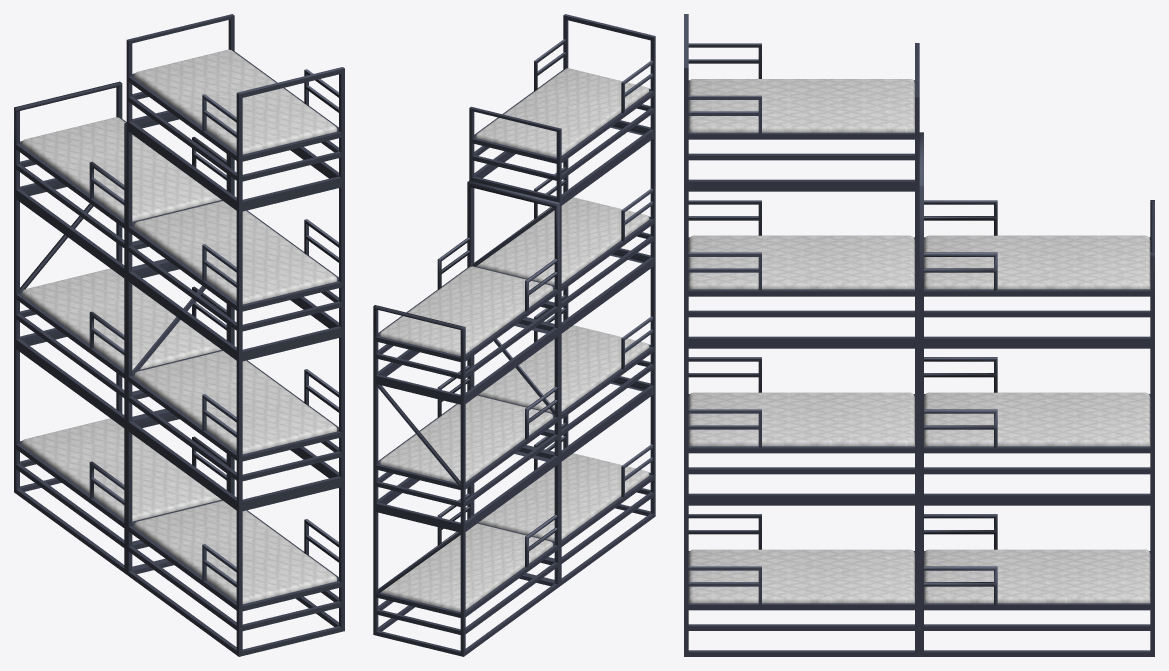
The model's file is squidgame_props_bed3.fbx.
3 views of the same model, side by side, from view 1: azimuth 30°, elevation 25°; view 2: azimuth 150°, elevation 25°; view 3: azimuth 270°, elevation 25° (orthographic). The views are drawn at different scales.
Visible parts, largest first — view 1: squidgame_props_bed3; view 2: squidgame_props_bed3; view 3: squidgame_props_bed3.
Part boxes in pixels (left/top/right/bottom): squidgame_props_bed3: left=14, top=14, right=344, bottom=656; squidgame_props_bed3: left=373, top=14, right=655, bottom=656; squidgame_props_bed3: left=684, top=14, right=1154, bottom=656.
Bounding box in the file's own units: 1.11 × 5.63 × 4.08.
